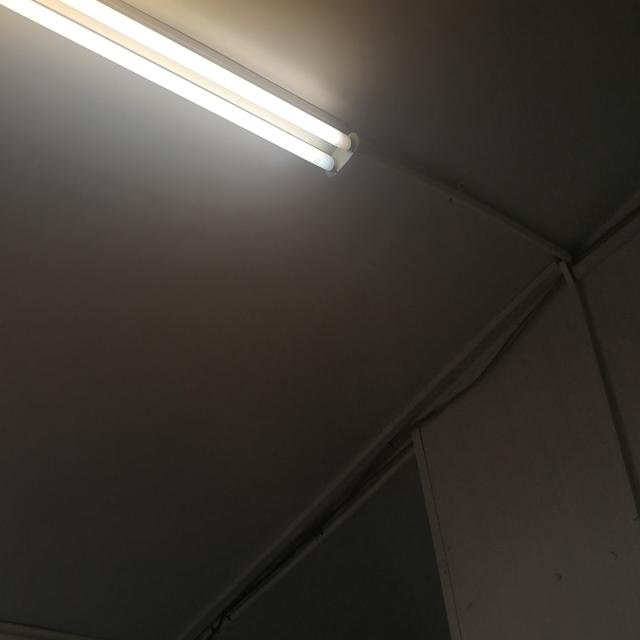fluorescent tube: (0, 0, 387, 214)
